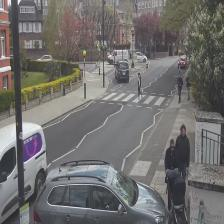person: (174, 124, 190, 196), (164, 139, 177, 205)
